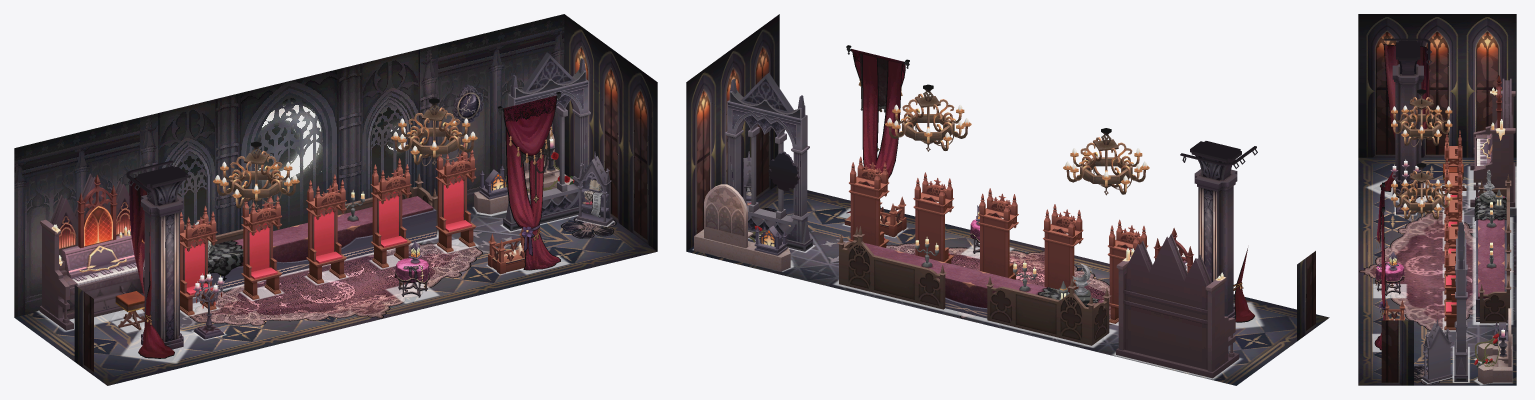
File: dreamCastle.glb
3 views of the same model, side by side, from view 1: azimuth 30°, elevation 25°; view 2: azimuth 150°, elevation 25°; view 3: azimuth 270°, elevation 25° (orthographic). The views are drawn at different scales.
Parts seen in each view (by area): view 1: ROOM_room, ROOM_floor, furni_dreamCastle_carpet_01, furni_dreamCastle_curtainPlatform_03, furni_dreamCastle_Column_02, furni_dreamCastle_wall_02, furni_dreamCastle_piano_02, furni_dreamCastle_piano_03, furni_dreamCastle_table_02.001, furni_dreamCastle_chair_03.003, furni_dreamCastle_chair_03.002, furni_dreamCastle_chair_03.001 (+20 smaller); view 2: ROOM_floor, furni_dreamCastle_table_02.001, ROOM_room, furni_dreamCastle_piano_02, furni_dreamCastle_wall_02, furni_dreamCastle_Column_02, furni_dreamCastle_table_03.002, furni_dreamCastle_curtainPlatform_03, furni_dreamCastle_table_03.001, furni_dreamCastle_piano_01, furni_dreamCastle_chair_03.002, furni_dreamCastle_chair_03.004 (+14 smaller); view 3: ROOM_room, ROOM_floor, furni_dreamCastle_carpet_01, furni_dreamCastle_Column_02, furni_dreamCastle_piano_01, furni_dreamCastle_table_03.001, furni_dreamCastle_table_02.001, ROOM_RDoor, furni_dreamCastle_ceilingLight_02.001, furni_dreamCastle_ceilingLight_02, furni_dreamCastle_wall_02, furni_dreamCastle_table_03.002 (+25 smaller).
Part boxes in pixels (x1,y1,x2,y2): ROOM_room: (14,14,657,317); ROOM_floor: (14,205,657,385); furni_dreamCastle_carpet_01: (189,243,482,325); furni_dreamCastle_curtainPlatform_03: (502,95,560,270); furni_dreamCastle_Column_02: (128,164,183,342); furni_dreamCastle_wall_02: (506,52,590,222); furni_dreamCastle_piano_02: (50,173,131,322); furni_dreamCastle_piano_03: (59,226,144,312); furni_dreamCastle_table_02.001: (184,173,437,289); furni_dreamCastle_chair_03.003: (371,158,411,265); furni_dreamCastle_chair_03.002: (306,174,346,281); furni_dreamCastle_chair_03.001: (241,195,281,297); ROOM_floor: (686,185,1329,385); furni_dreamCastle_table_02.001: (837,226,1111,345); ROOM_room: (686,14,779,251); furni_dreamCastle_piano_02: (1123,228,1234,369); furni_dreamCastle_wall_02: (725,73,809,243); furni_dreamCastle_Column_02: (1182,149,1257,316); furni_dreamCastle_table_03.002: (694,184,790,271); furni_dreamCastle_curtainPlatform_03: (846,49,905,213); furni_dreamCastle_table_03.001: (864,239,1103,307); furni_dreamCastle_piano_01: (1116,255,1239,378); furni_dreamCastle_chair_03.002: (978,188,1018,279); furni_dreamCastle_chair_03.004: (848,156,889,247); ROOM_room: (1358,14,1516,157); ROOM_floor: (1358,157,1516,385); furni_dreamCastle_carpet_01: (1359,212,1513,330); furni_dreamCastle_Column_02: (1385,40,1431,191); furni_dreamCastle_piano_01: (1470,91,1515,207); furni_dreamCastle_table_03.001: (1478,170,1504,298); furni_dreamCastle_table_02.001: (1476,174,1511,323); ROOM_RDoor: (1381,320,1413,385); furni_dreamCastle_ceilingLight_02.001: (1391,169,1452,220); furni_dreamCastle_ceilingLight_02: (1391,95,1452,146); furni_dreamCastle_wall_02: (1454,222,1467,375); furni_dreamCastle_table_03.002: (1475,308,1512,384).
Size of the model in its own units: 7.52 by 2.2 by 2.26.
8 materials, 8 textured.
